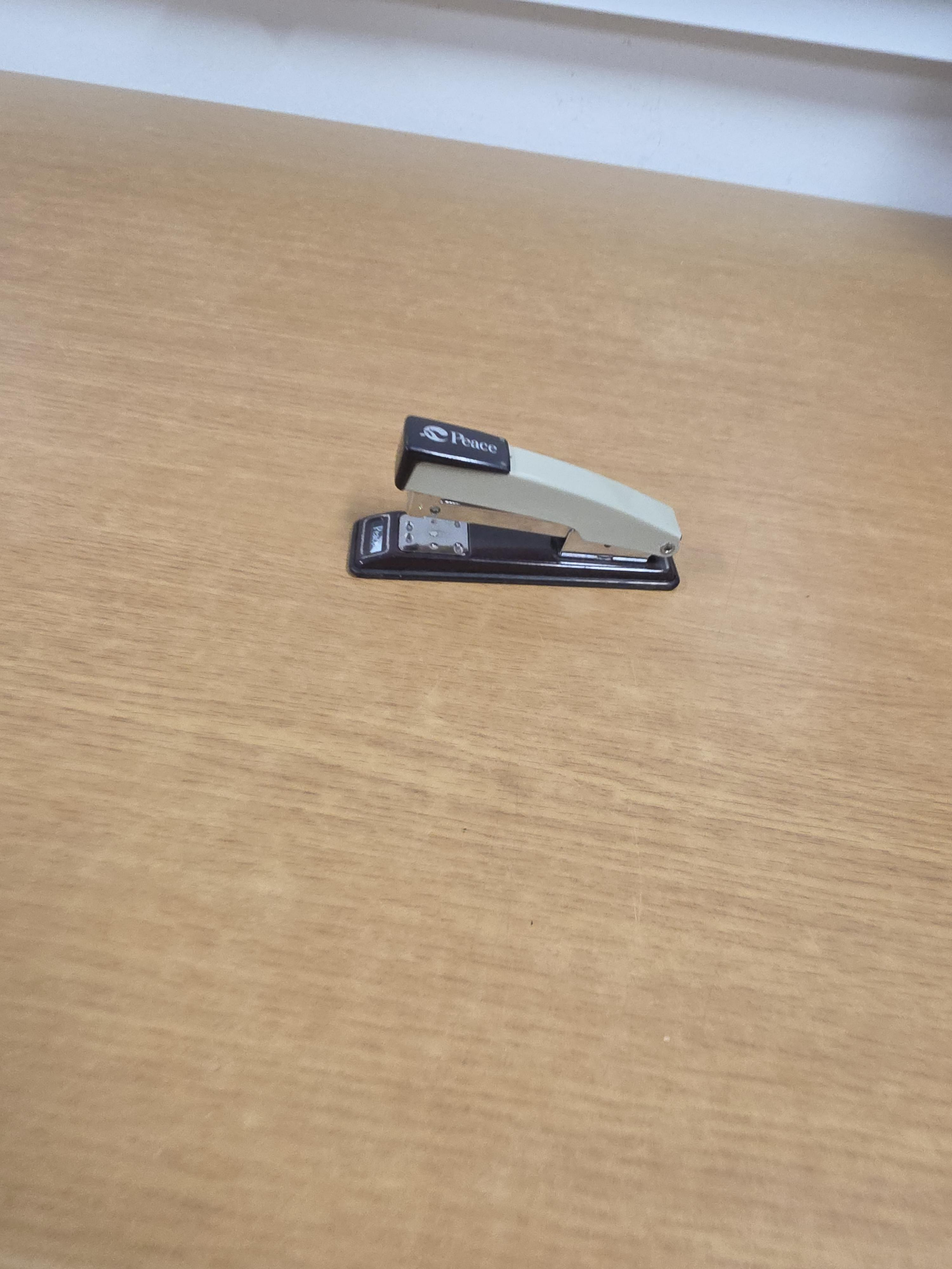stapler: (346, 415, 683, 591)
